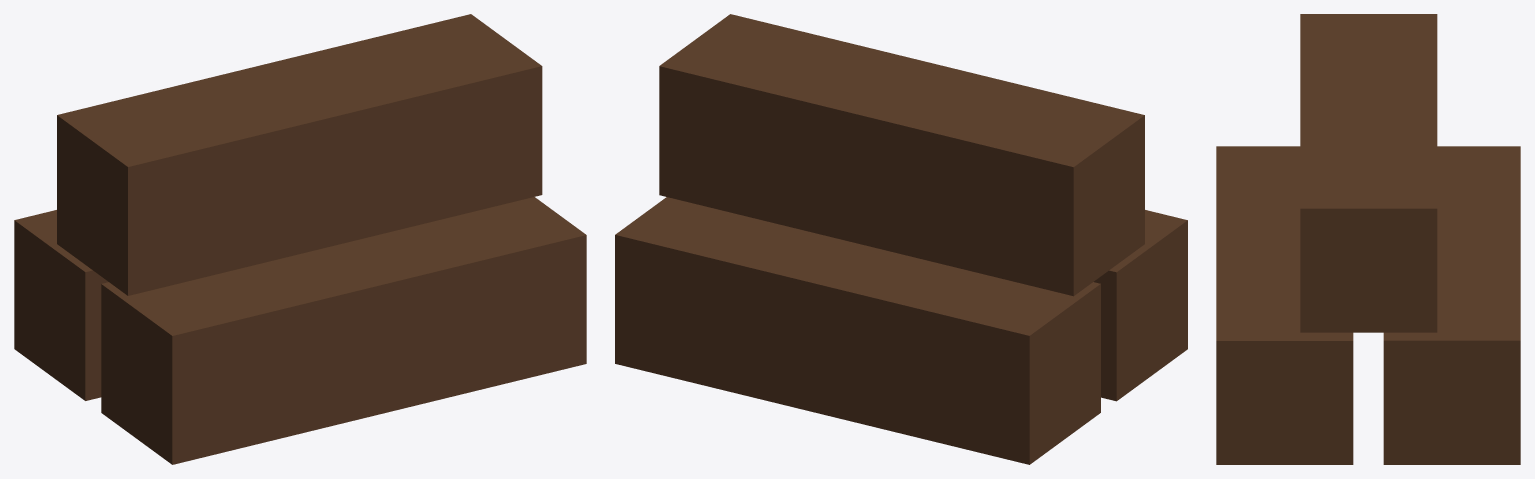
Rendered from logs.fbx.
3 views of the same model, side by side, from view 1: azimuth 30°, elevation 25°; view 2: azimuth 150°, elevation 25°; view 3: azimuth 270°, elevation 25° (orthographic). The views are drawn at different scales.
Visible parts, largest first — view 1: Log.001, Log.002, Log; view 2: Log.001, Log, Log.002; view 3: Log.001, Log.002, Log.
Boxes of the visible parts, x1,y1,x2,y2 form: Log.001: (57,14,542,295); Log.002: (101,197,586,464); Log: (14,210,108,400); Log.001: (659,14,1144,296); Log: (615,197,1100,464); Log.002: (1094,210,1187,401); Log.001: (1300,14,1437,332); Log.002: (1216,146,1353,464); Log: (1383,146,1520,464).
Bounding box in the file's own units: 94.52 × 57.92 × 62.38.
